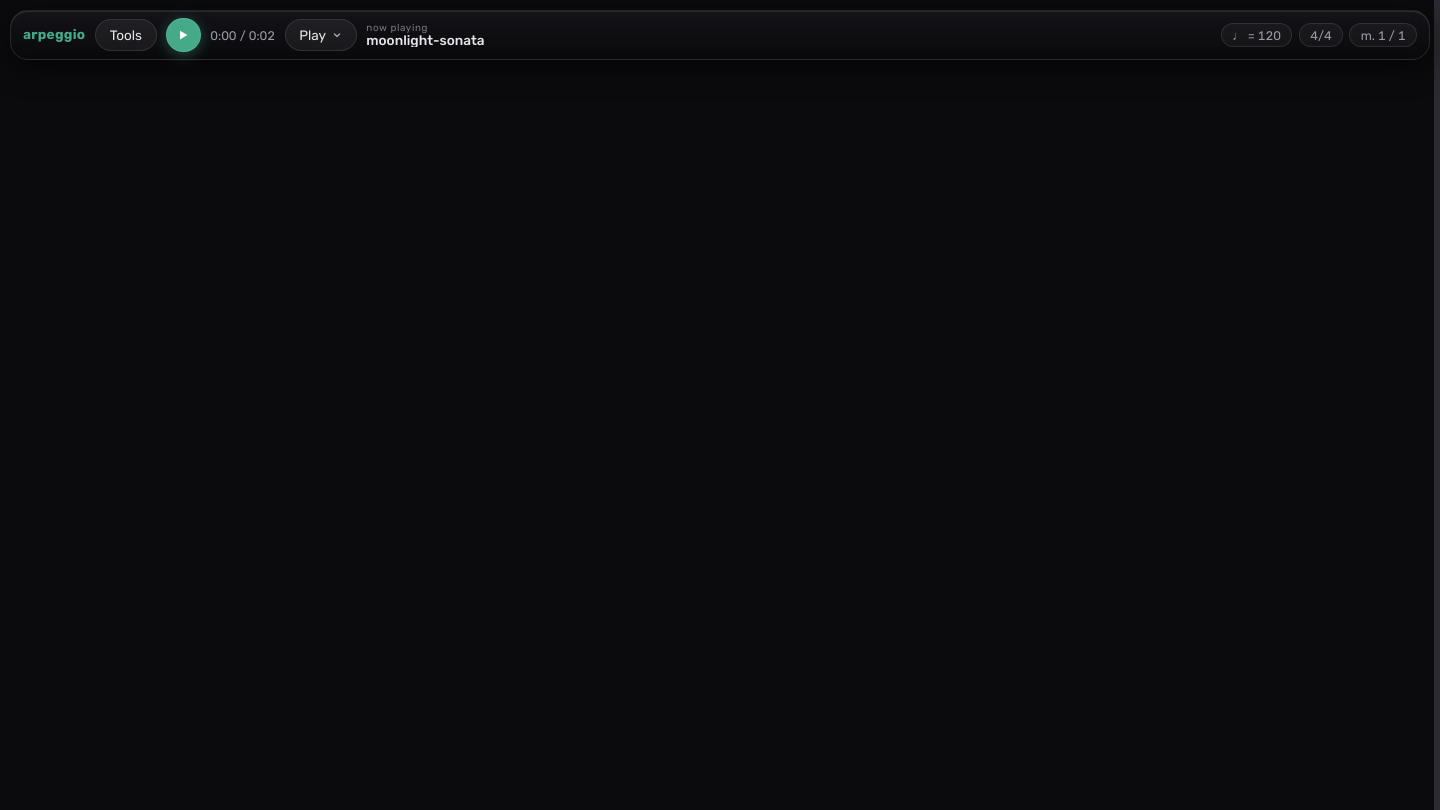
PracticeView › the Tools popover exposes General settings (note labels)
Click the button "Tools": [126, 35] box [95, 19, 157, 51]
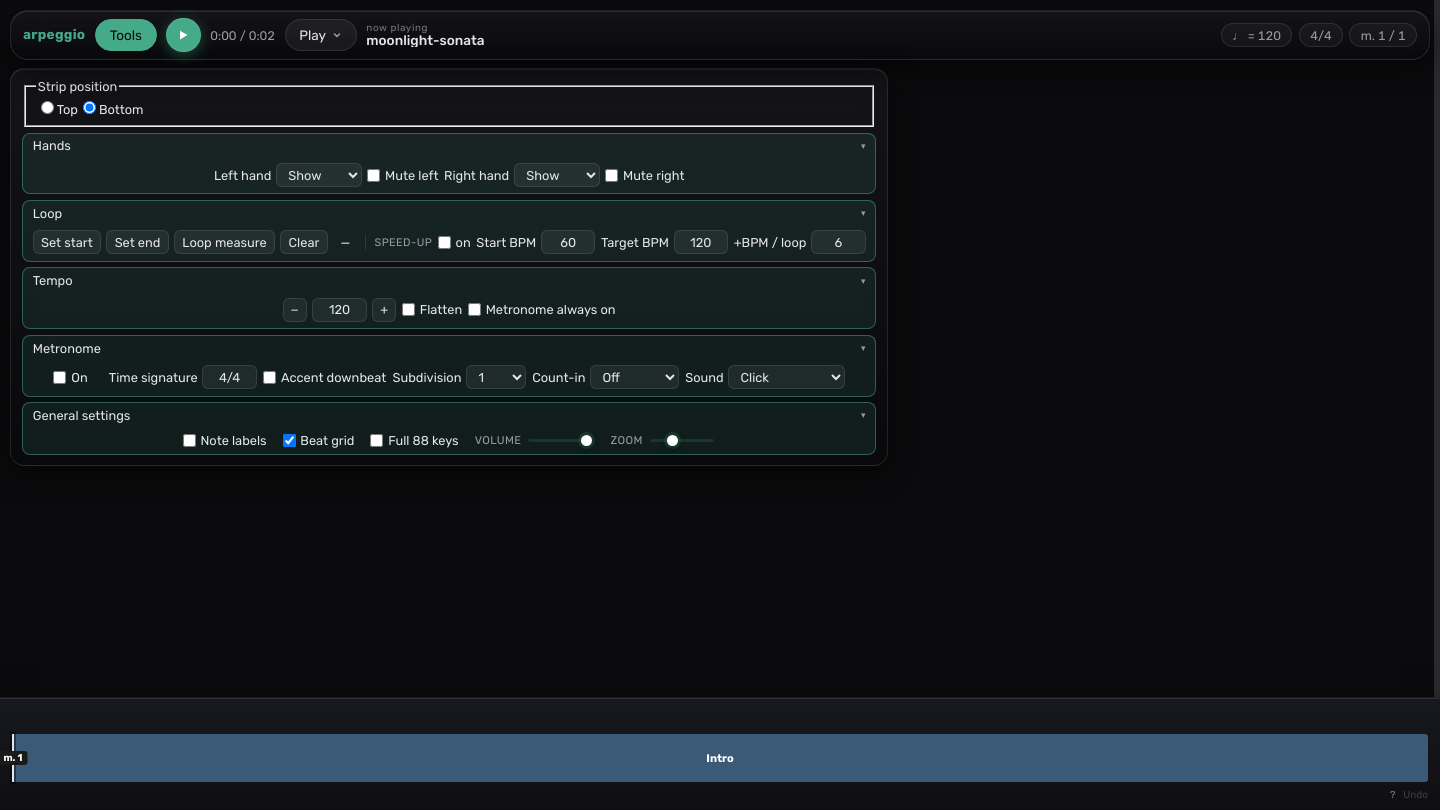
Expected: the checkbox labelled "Note labels" is shown, [183, 434, 196, 446]
